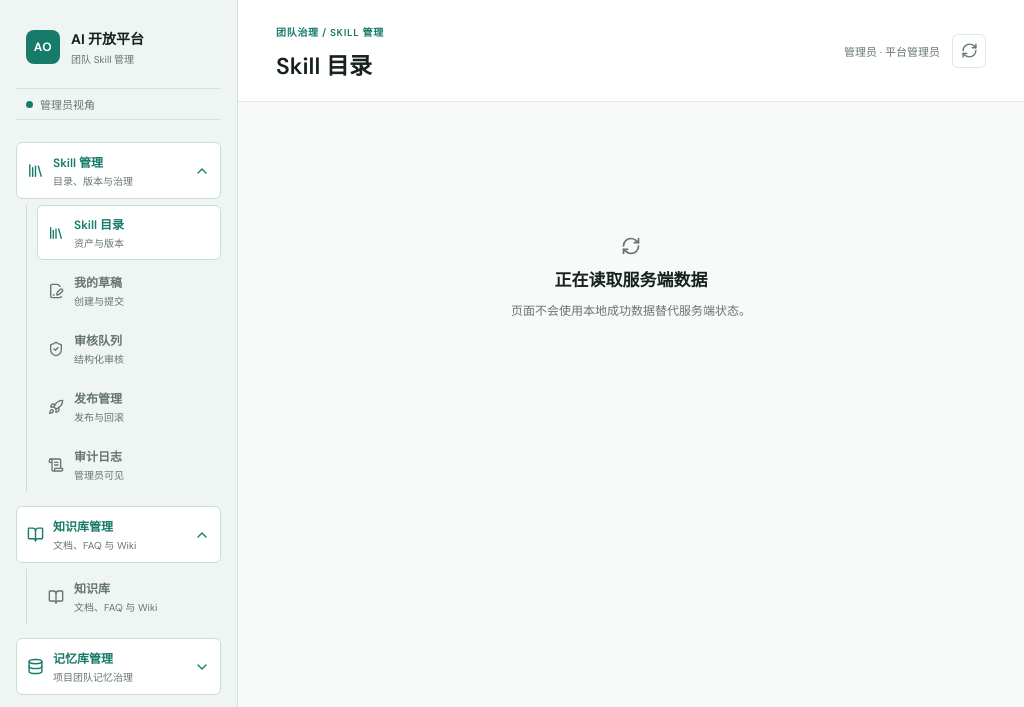
Test: AdminDashboard › keeps edited memory content visible after a revision conflict
Click the button "记忆库管理 项目团队记忆治理" at (118, 666), box [16,638,221,695]
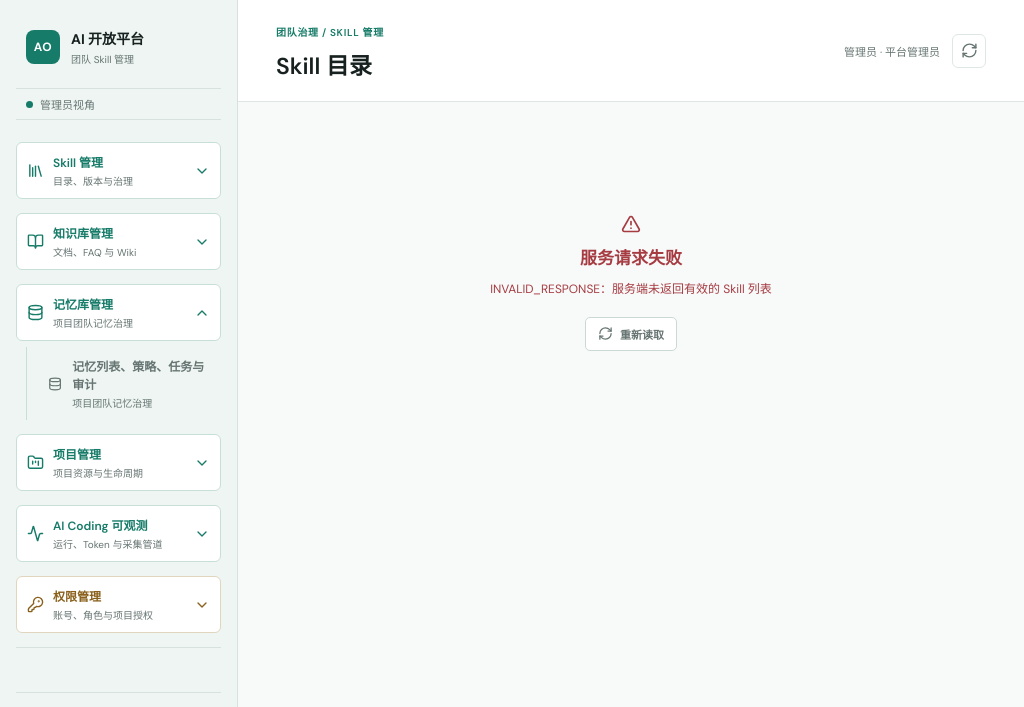
Click the button "记忆列表、策略、任务与审计 项目团队记忆治理" at (129, 384), box [37,347,221,420]
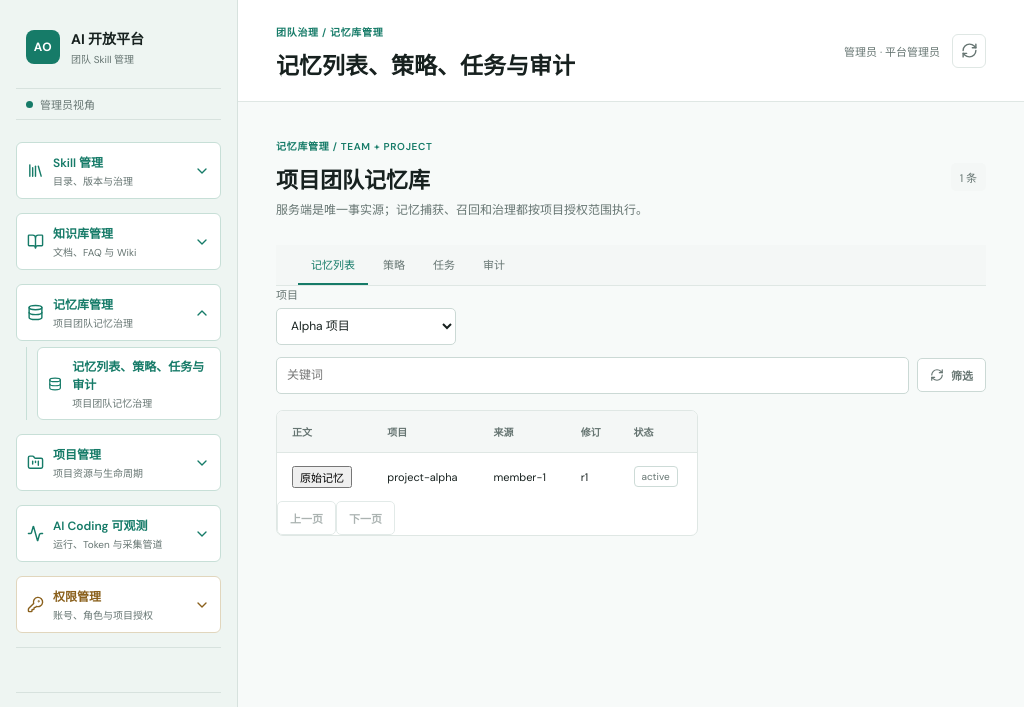
Click the button "原始记忆" at (322, 477), box [292,466,352,488]
(page scrolled)
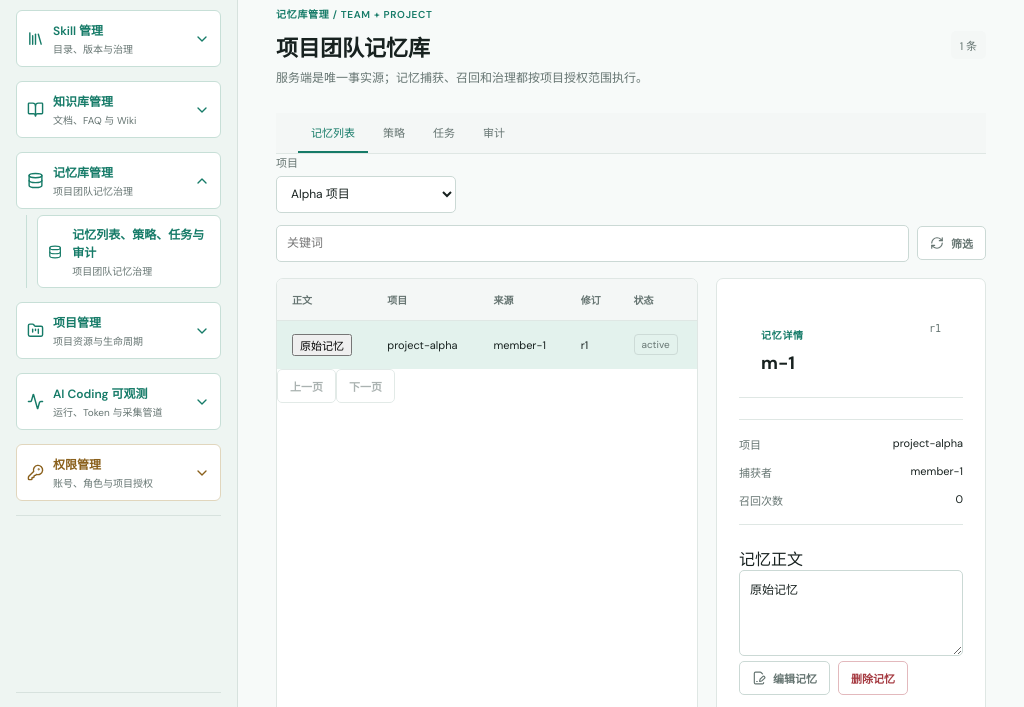
Click the button "编辑记忆" at (784, 678), box [739,661,830,695]
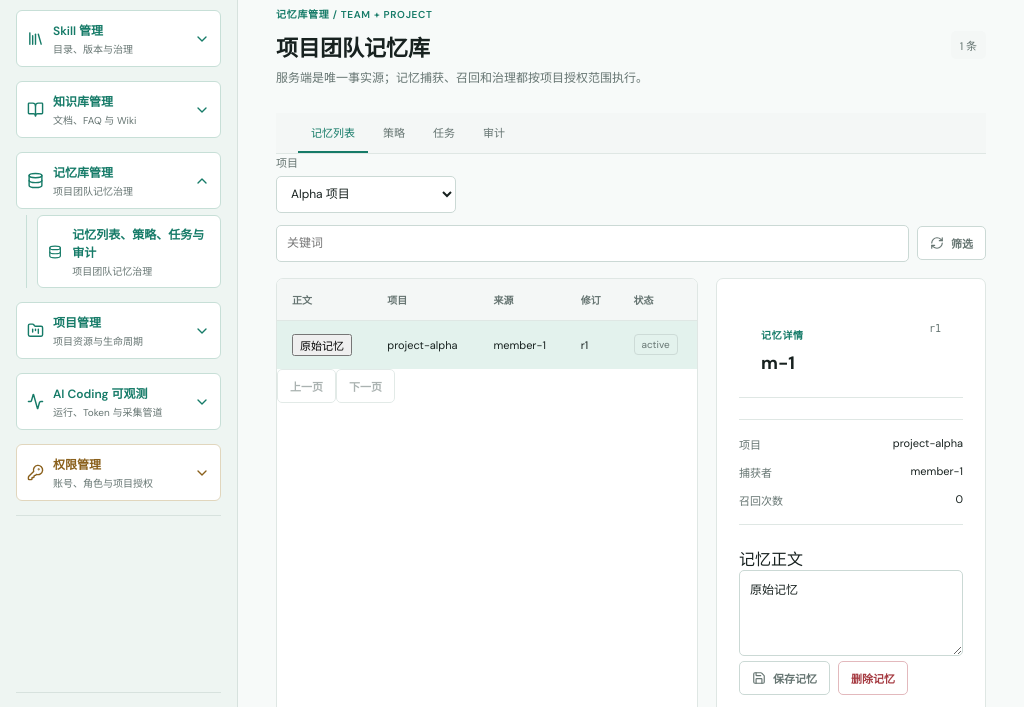
Replace the text in the text box labelled "记忆正文" with "本地未提交修改" at (851, 613), box [739,570,963,656]
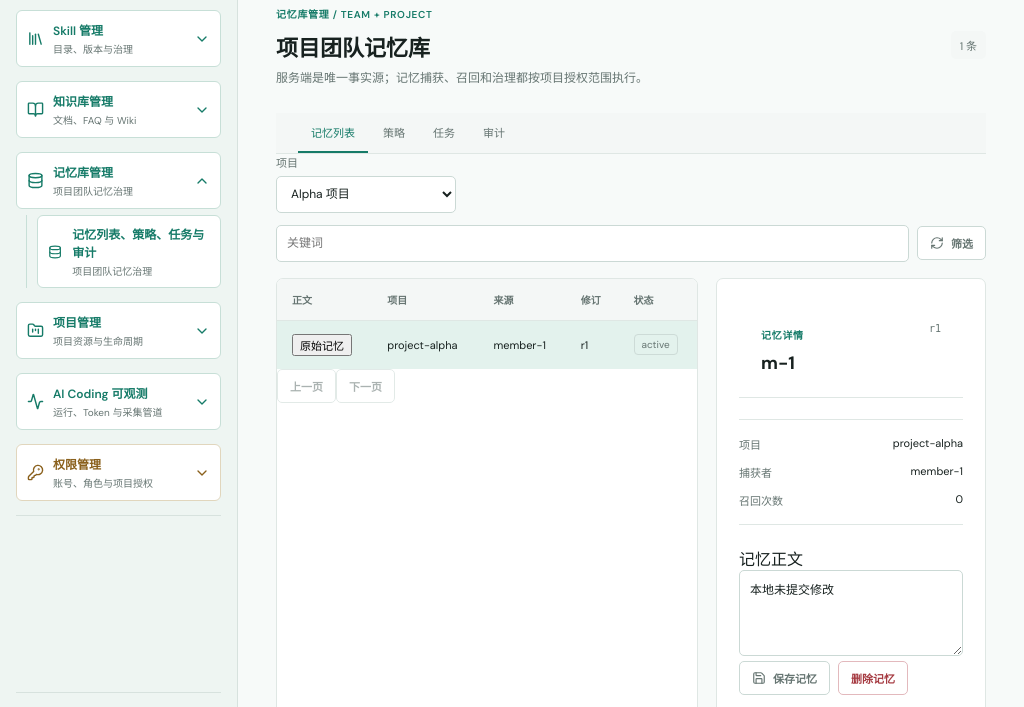
Click the button "保存记忆" at (784, 678), box [739,661,830,695]
(page scrolled)
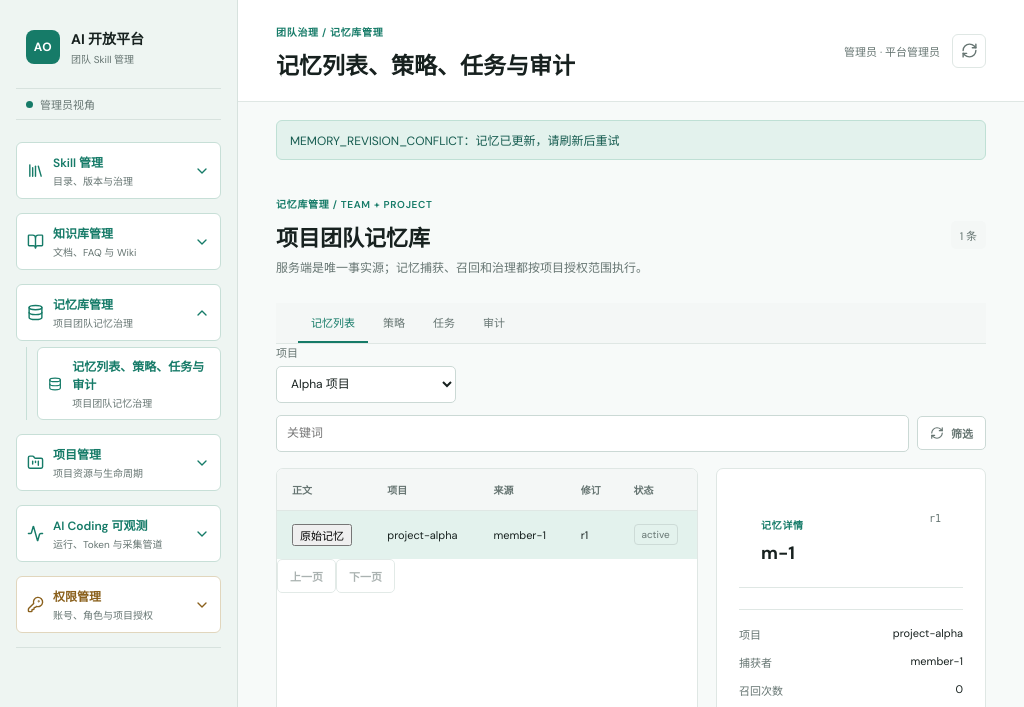
Expected: the text "MEMORY_REVISION_CONFLICT：记忆已更新，请刷新后重试" is shown, [276,120,986,160]
